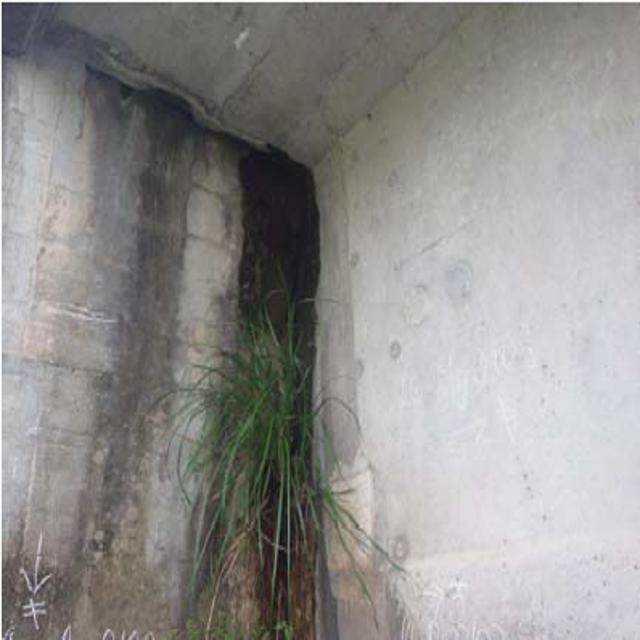leakage: (70, 56, 340, 634)
